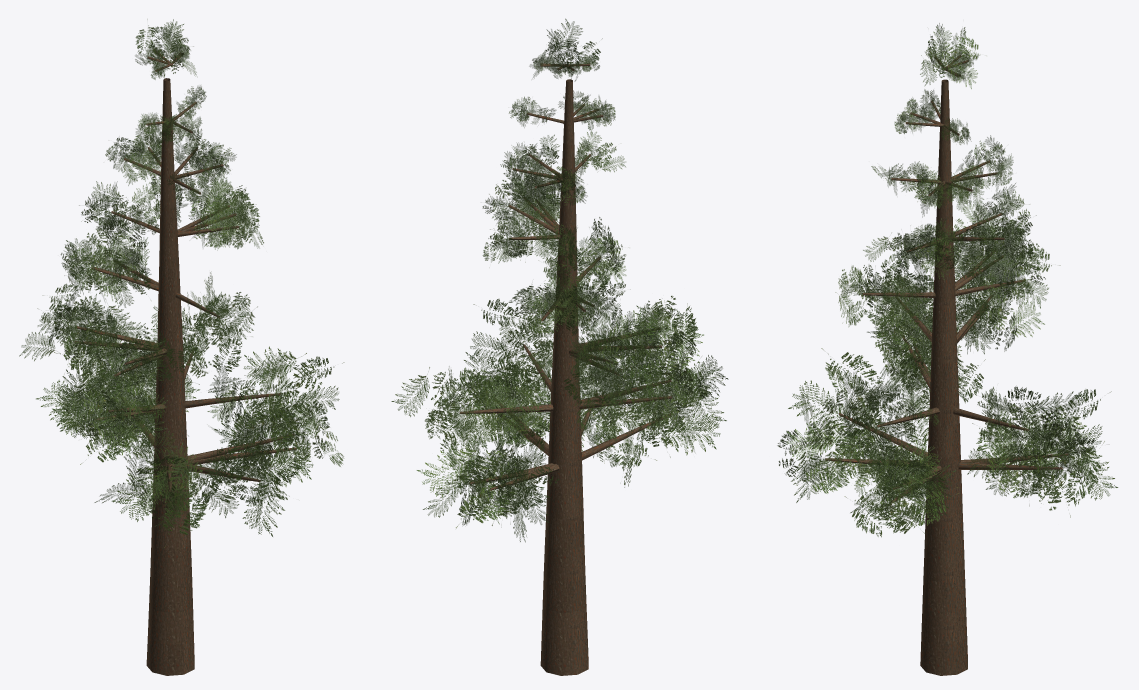
The model's file is pine_4.glb.
3 renders of one model, left to right at view 1: azimuth 30°, elevation 25°; view 2: azimuth 150°, elevation 25°; view 3: azimuth 270°, elevation 25°, orthographic.
Parts seen in each view (by area): view 1: pine; view 2: pine; view 3: pine.
Boxes of the visible parts, x1,y1,x2,y2 form: pine: (19, 19, 344, 675); pine: (391, 18, 728, 675); pine: (777, 23, 1118, 675).
Size of the model in its own units: 6.12 by 12.18 by 6.18.
Materials: 2 (2 with a texture image).
